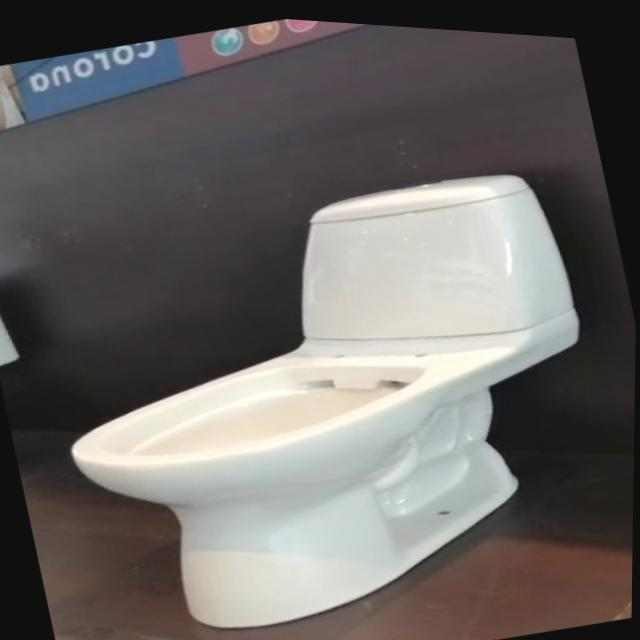toilet: (23, 126, 639, 640)
